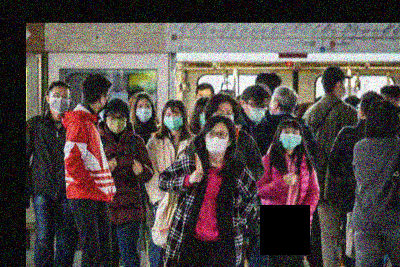with_mask: (204, 129, 230, 156), (49, 89, 72, 113), (279, 127, 303, 150), (246, 100, 269, 122), (104, 113, 128, 134), (162, 110, 184, 132), (210, 107, 234, 126), (134, 102, 153, 123), (197, 108, 208, 129)
